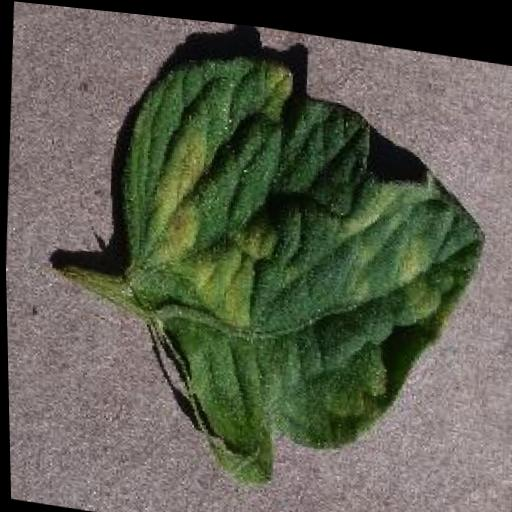Leaf Mold: (99, 34, 499, 509)
